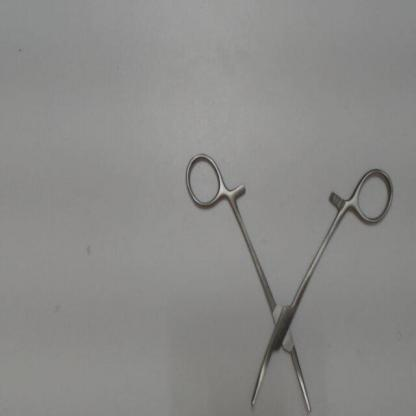Crile Artery Forceps: (180, 142, 400, 414)
